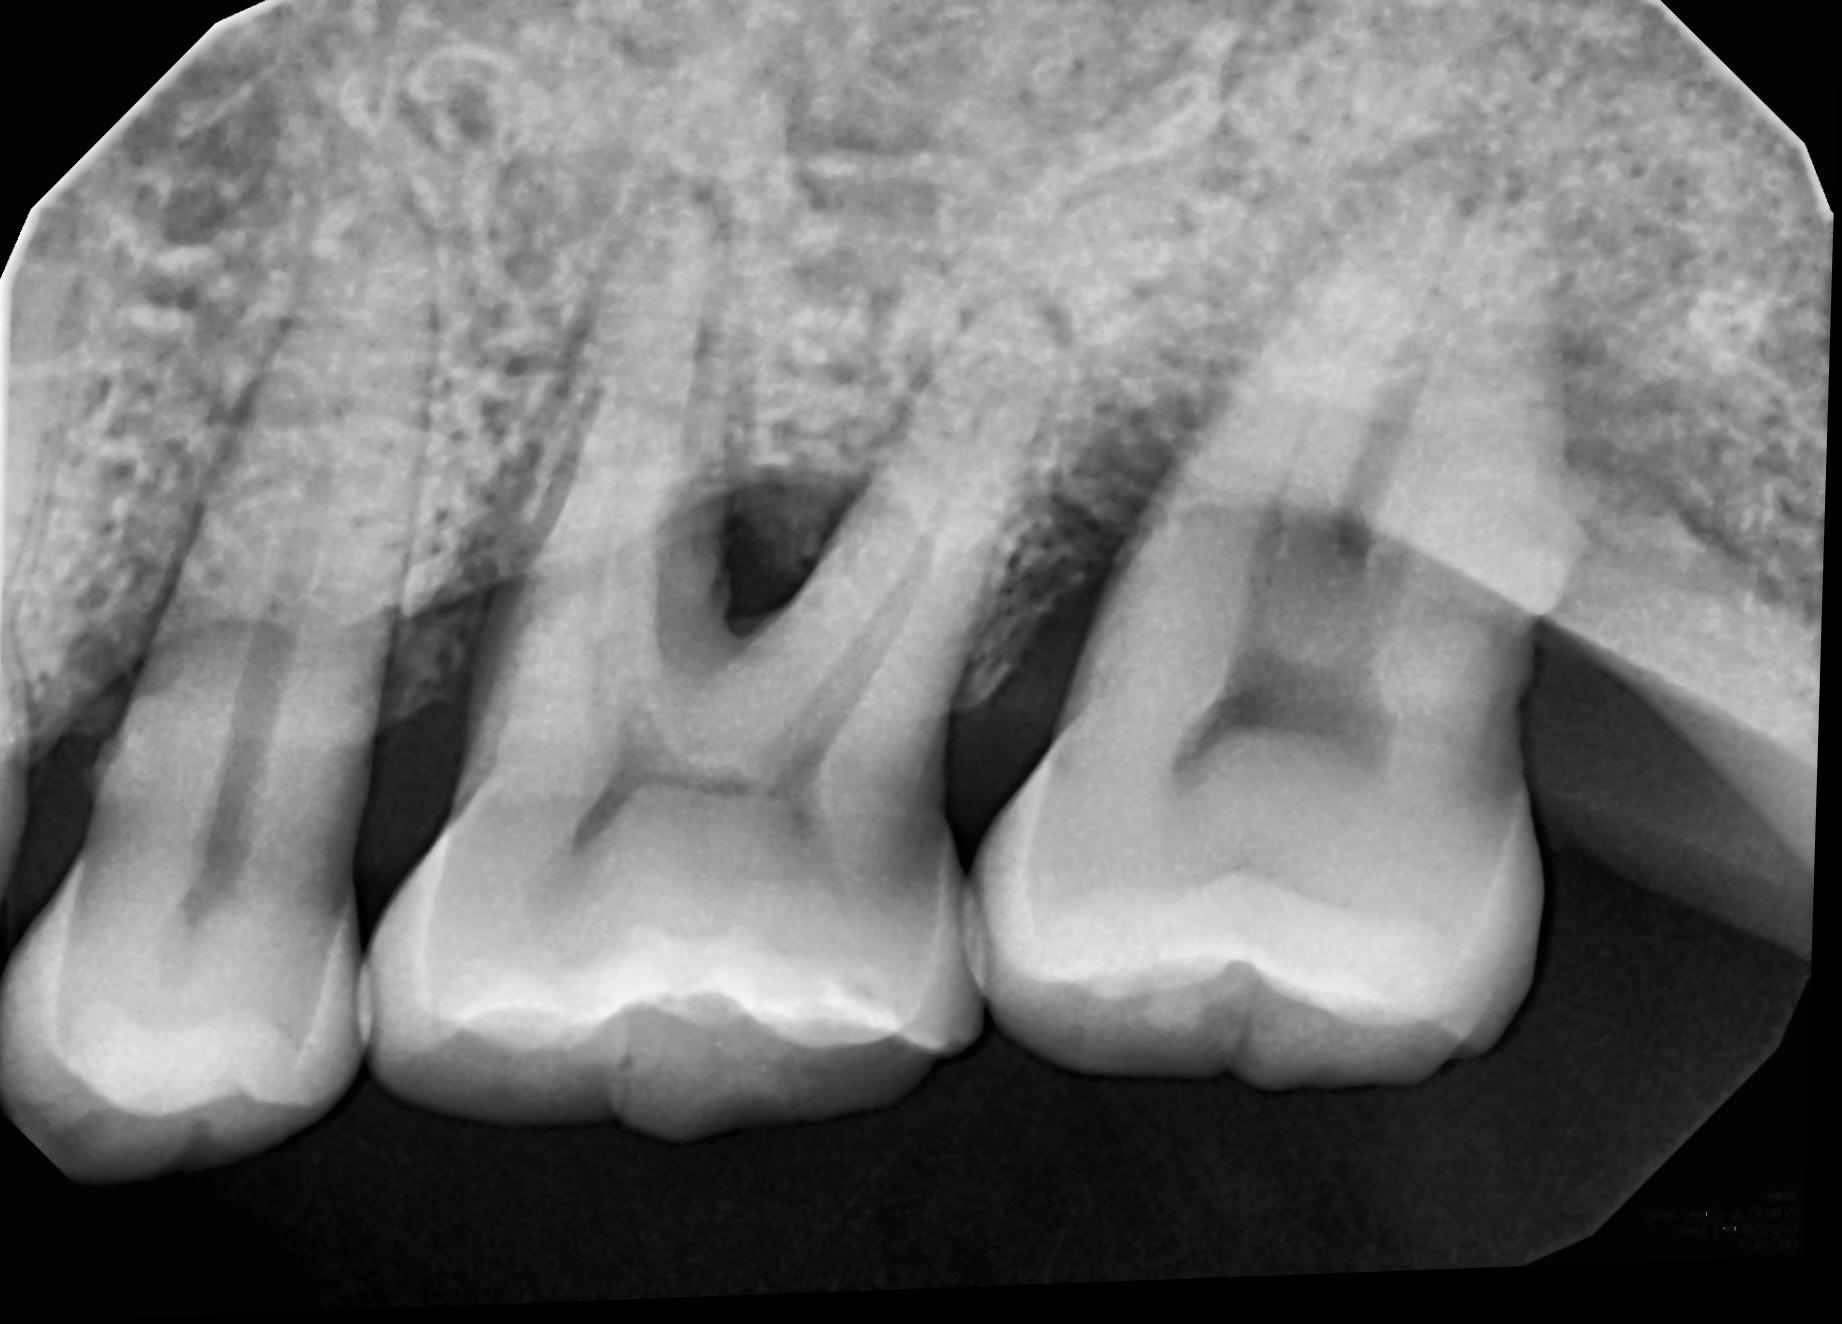Individual Tooth: (373, 203, 1037, 1145), (978, 214, 1590, 1100), (4, 184, 433, 1180)
